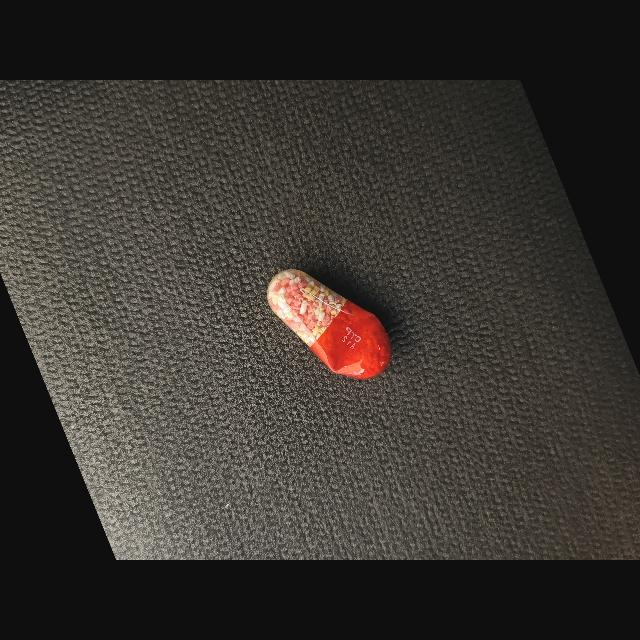Defective Capsule: (267, 269, 392, 379)
